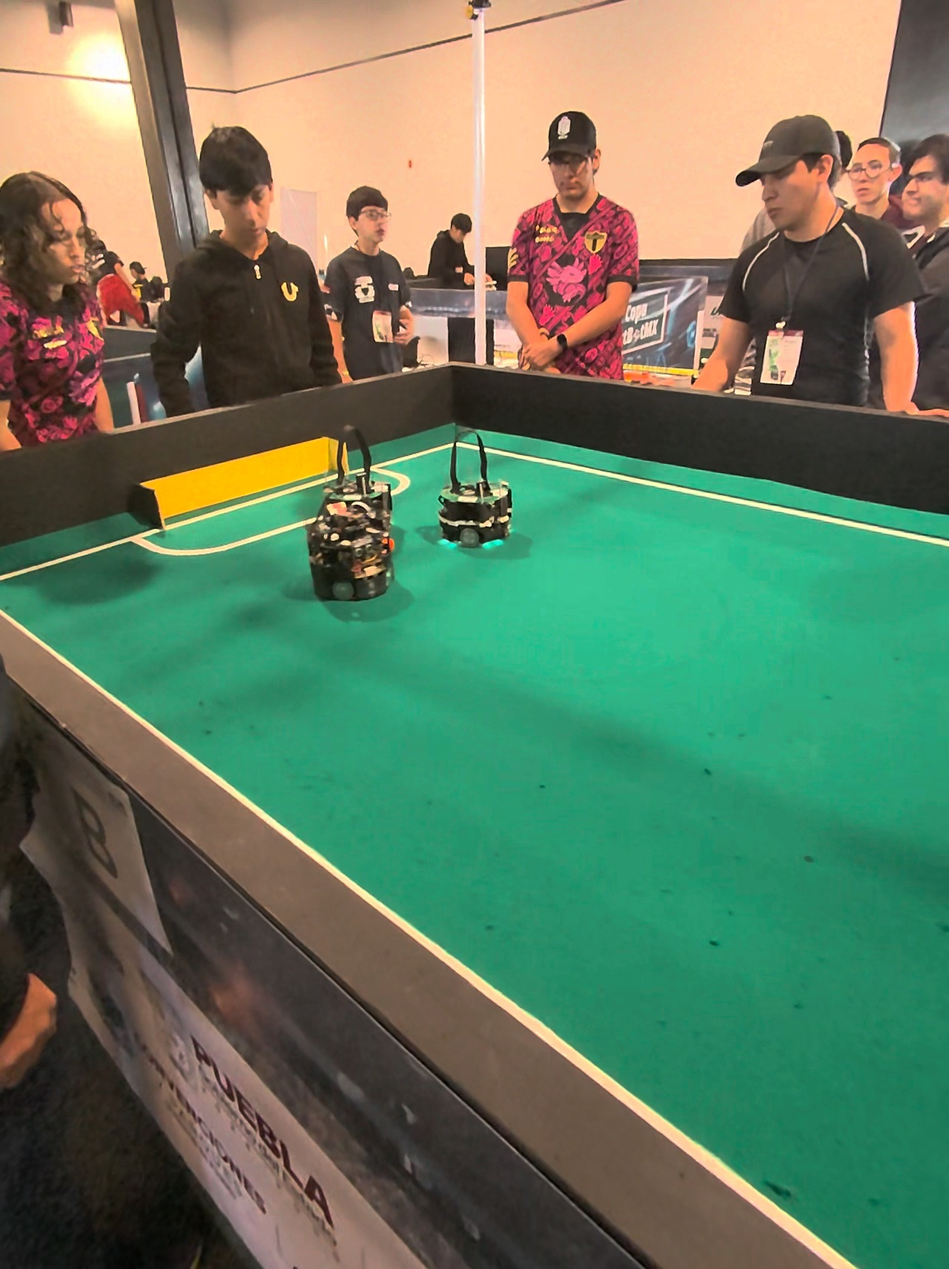Robot: (310, 432, 401, 623), (441, 424, 522, 566)
